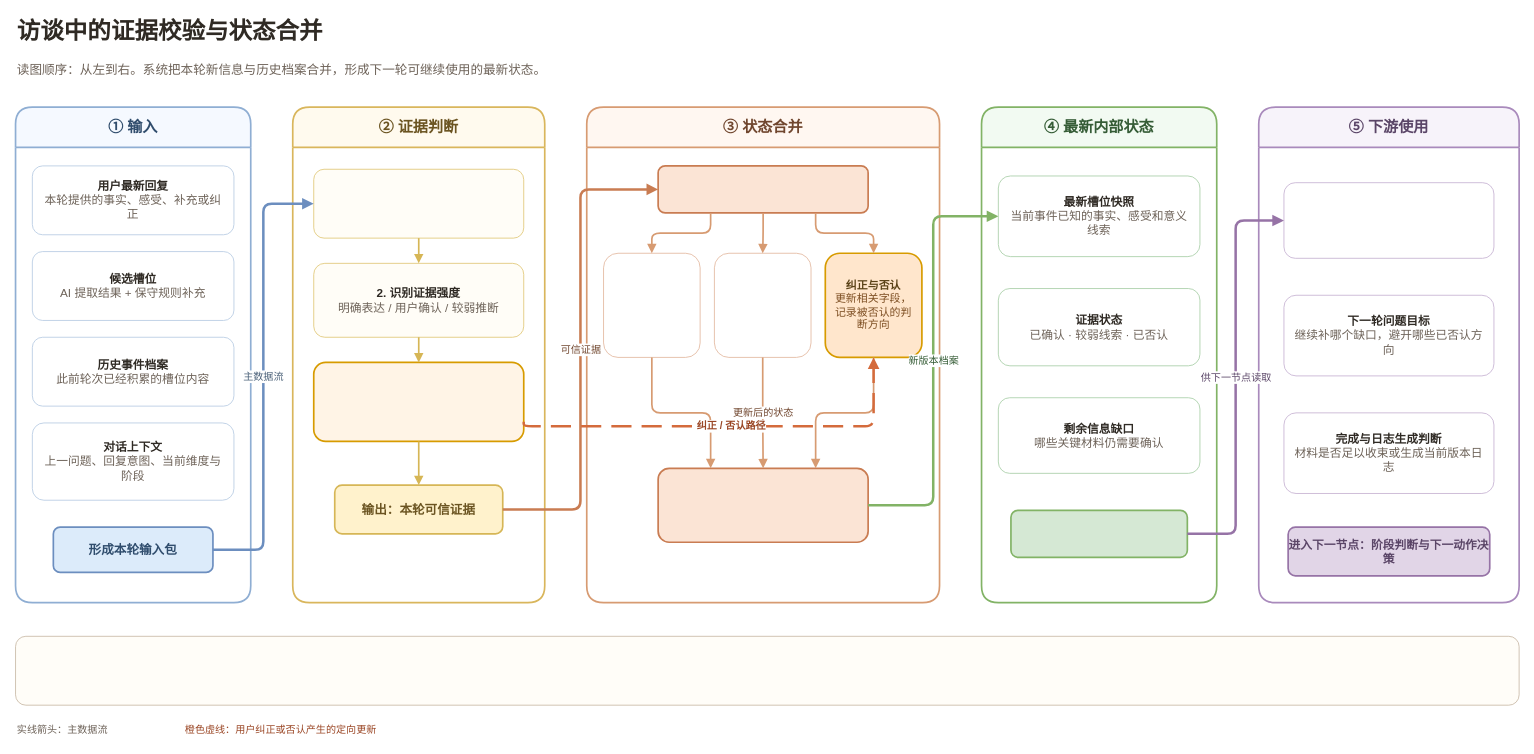
Image size: 1534x754. Some labels were removed from this diagram. Each missing label, with the centre of its shape:
"1. 整理候选信息 清理空值、重复和格式差异" belongs at (x=418, y=203).
"3. 识别关系变化 补充 / 细化 / 确认 / 否认 / 冲突" belongs at (x=418, y=401).
"填空 原槽位为空，新证据有效时写入" belongs at (x=651, y=304).
"核心理解 ：这一层维护的是“当前最可信的事件版本”。用户的新补充会增加信息，用户的纠正会改变证据状态，最终结果继续影响访谈阶段、下一问题和日志生成。" belongs at (x=767, y=670).
"根据新旧信息关系选择合并动作" belongs at (x=763, y=189).
"生成新版本事件档案 每轮回复后形成一个更新后的 snapshot" belongs at (x=763, y=505).
"用户不可见的系统内部档案" belongs at (x=1099, y=533).
"补充与细化 保留可信内容，增加更具体的细节" belongs at (x=762, y=304).
"访谈阶段与进度 当前处于收集、追问或收束阶段" belongs at (x=1388, y=220).
